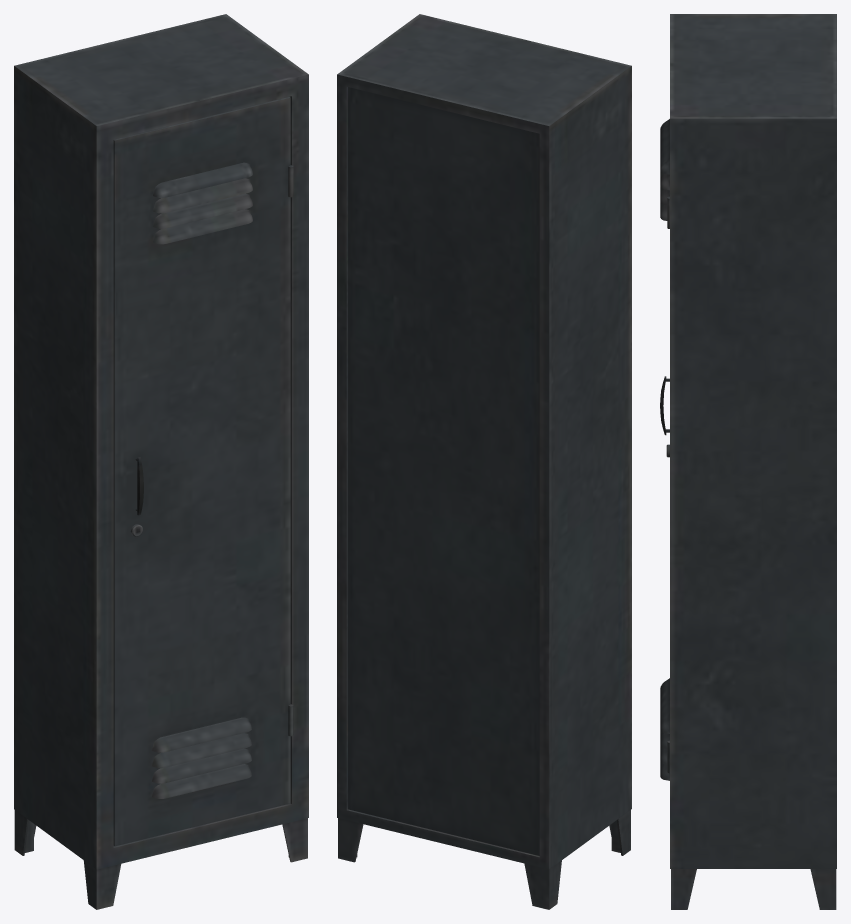
File: casier.glb
3 renders of one model, left to right at view 1: azimuth 30°, elevation 25°; view 2: azimuth 150°, elevation 25°; view 3: azimuth 270°, elevation 25°, orthographic.
Parts seen in each view (by area): view 1: door_02 - Default_0, shkaf; view 2: shkaf; view 3: shkaf, door_02 - Default_0.
Part boxes in pixels (x1,y1,x2,y2): door_02 - Default_0: [113, 97, 293, 846]; shkaf: [14, 14, 308, 909]; shkaf: [337, 14, 631, 909]; shkaf: [670, 14, 836, 909]; door_02 - Default_0: [660, 119, 669, 780].
Bounding box in the file's own units: 0.5187 × 1.83 × 0.3711.
1 material, 1 textured.
